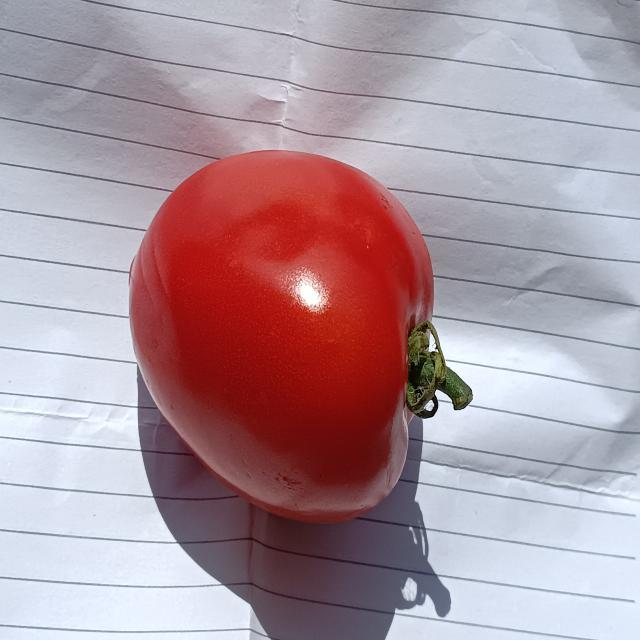Masak: (93, 153, 484, 521)
